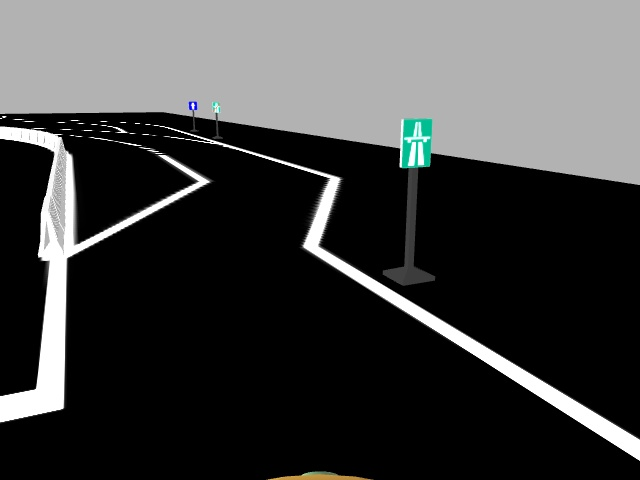HighwayEntrance: (401, 118, 430, 166)
HighwayExit: (213, 103, 221, 112)
OneWay: (188, 101, 196, 110)
